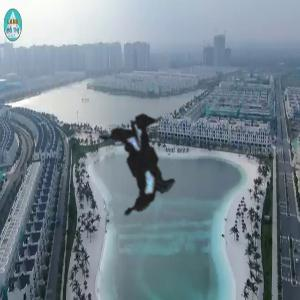drone: (1, 19, 282, 300)
